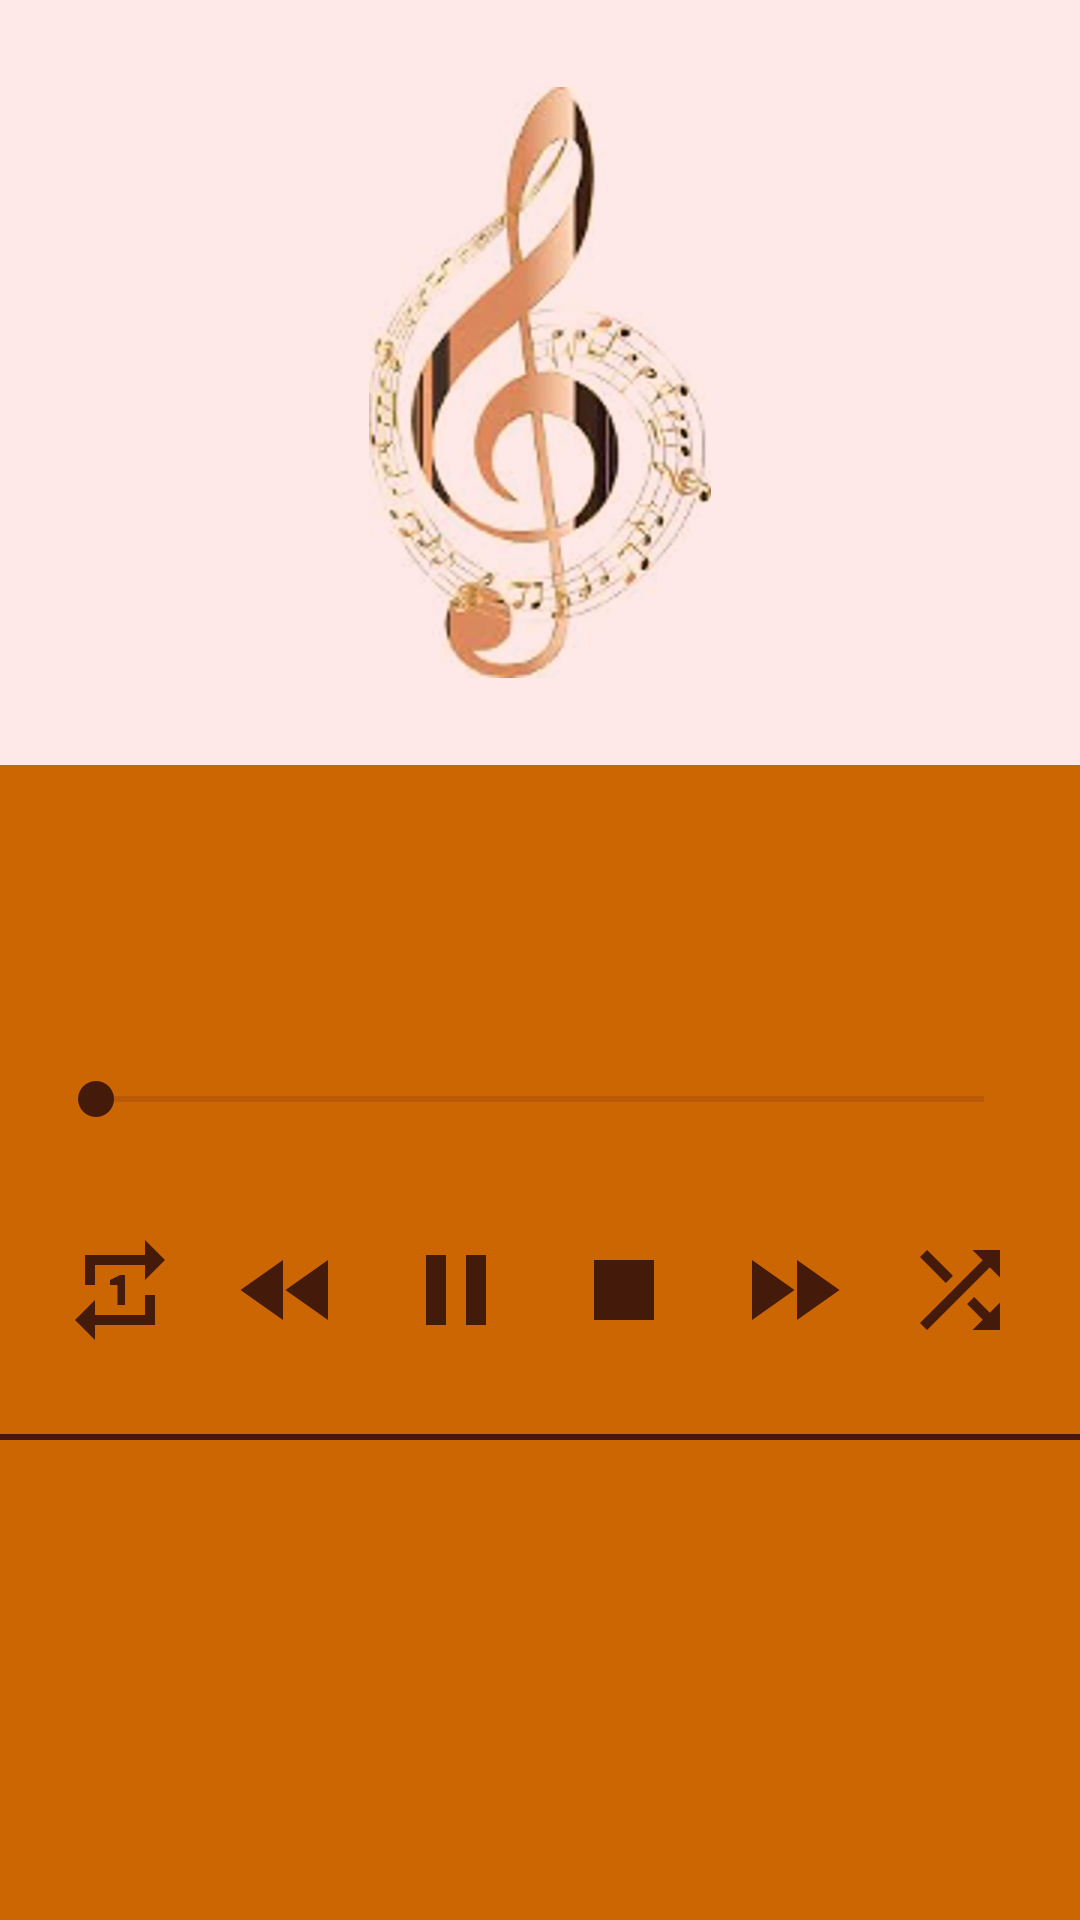

Named icons in this screenshot (1080w x 1920h) and their bounding boxes, (x1, y1, x2, y2):
fast forward: (752, 1260, 839, 1320)
fast rewind: (241, 1260, 328, 1320)
pause music: (426, 1255, 486, 1325)
repeat one: (75, 1240, 165, 1340)
shuffle: (920, 1250, 1000, 1330)
